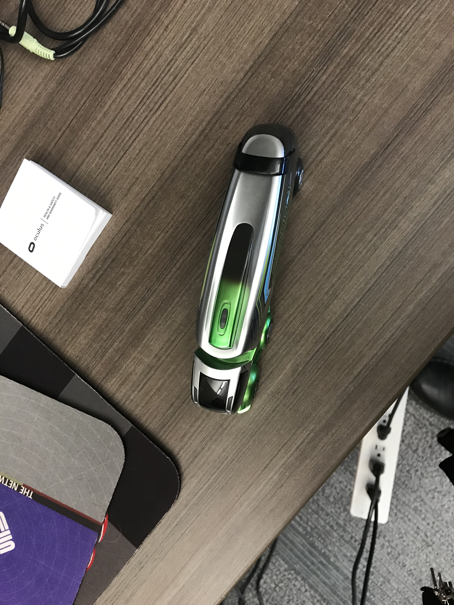Freewheel: (192, 123, 306, 415)
